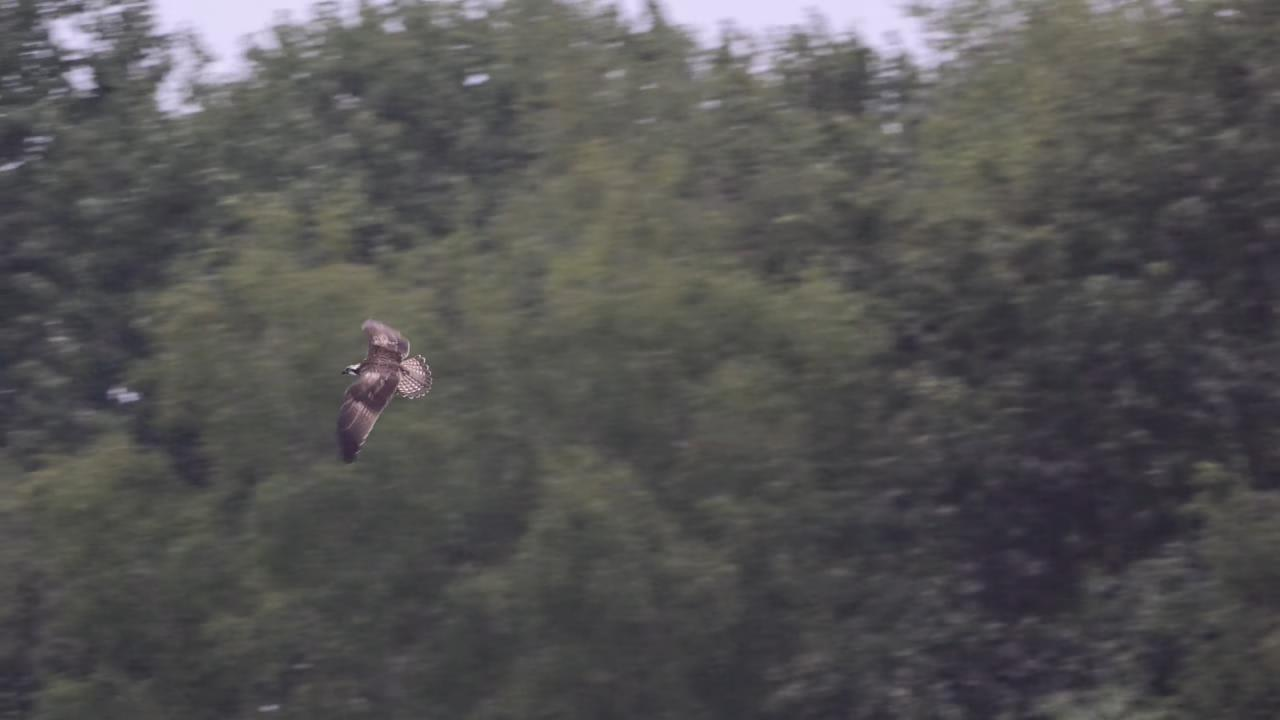Bird: (317, 305, 443, 478)
